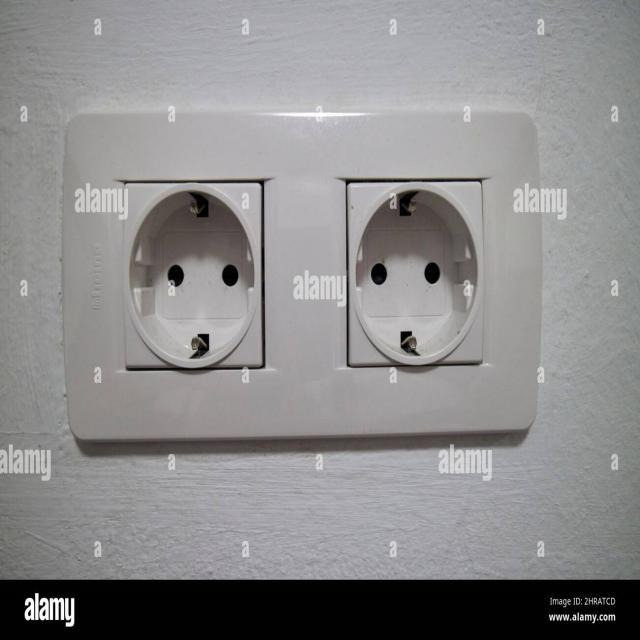typeb: (52, 85, 596, 507)
